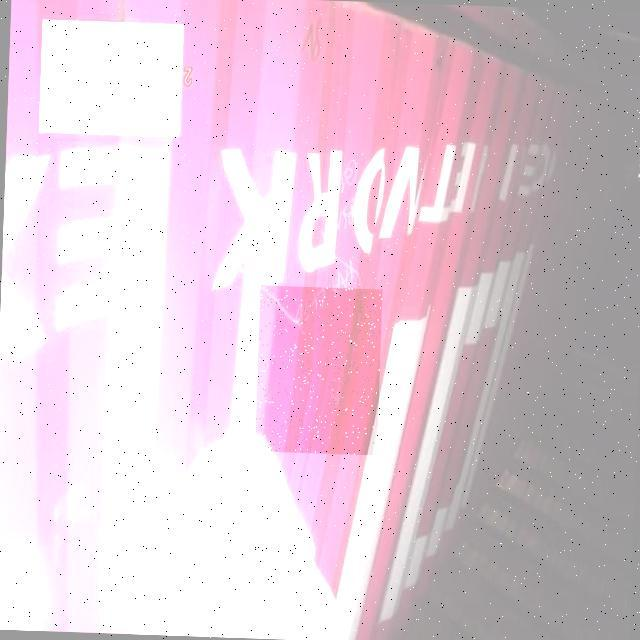Dent: (255, 285, 383, 455)
